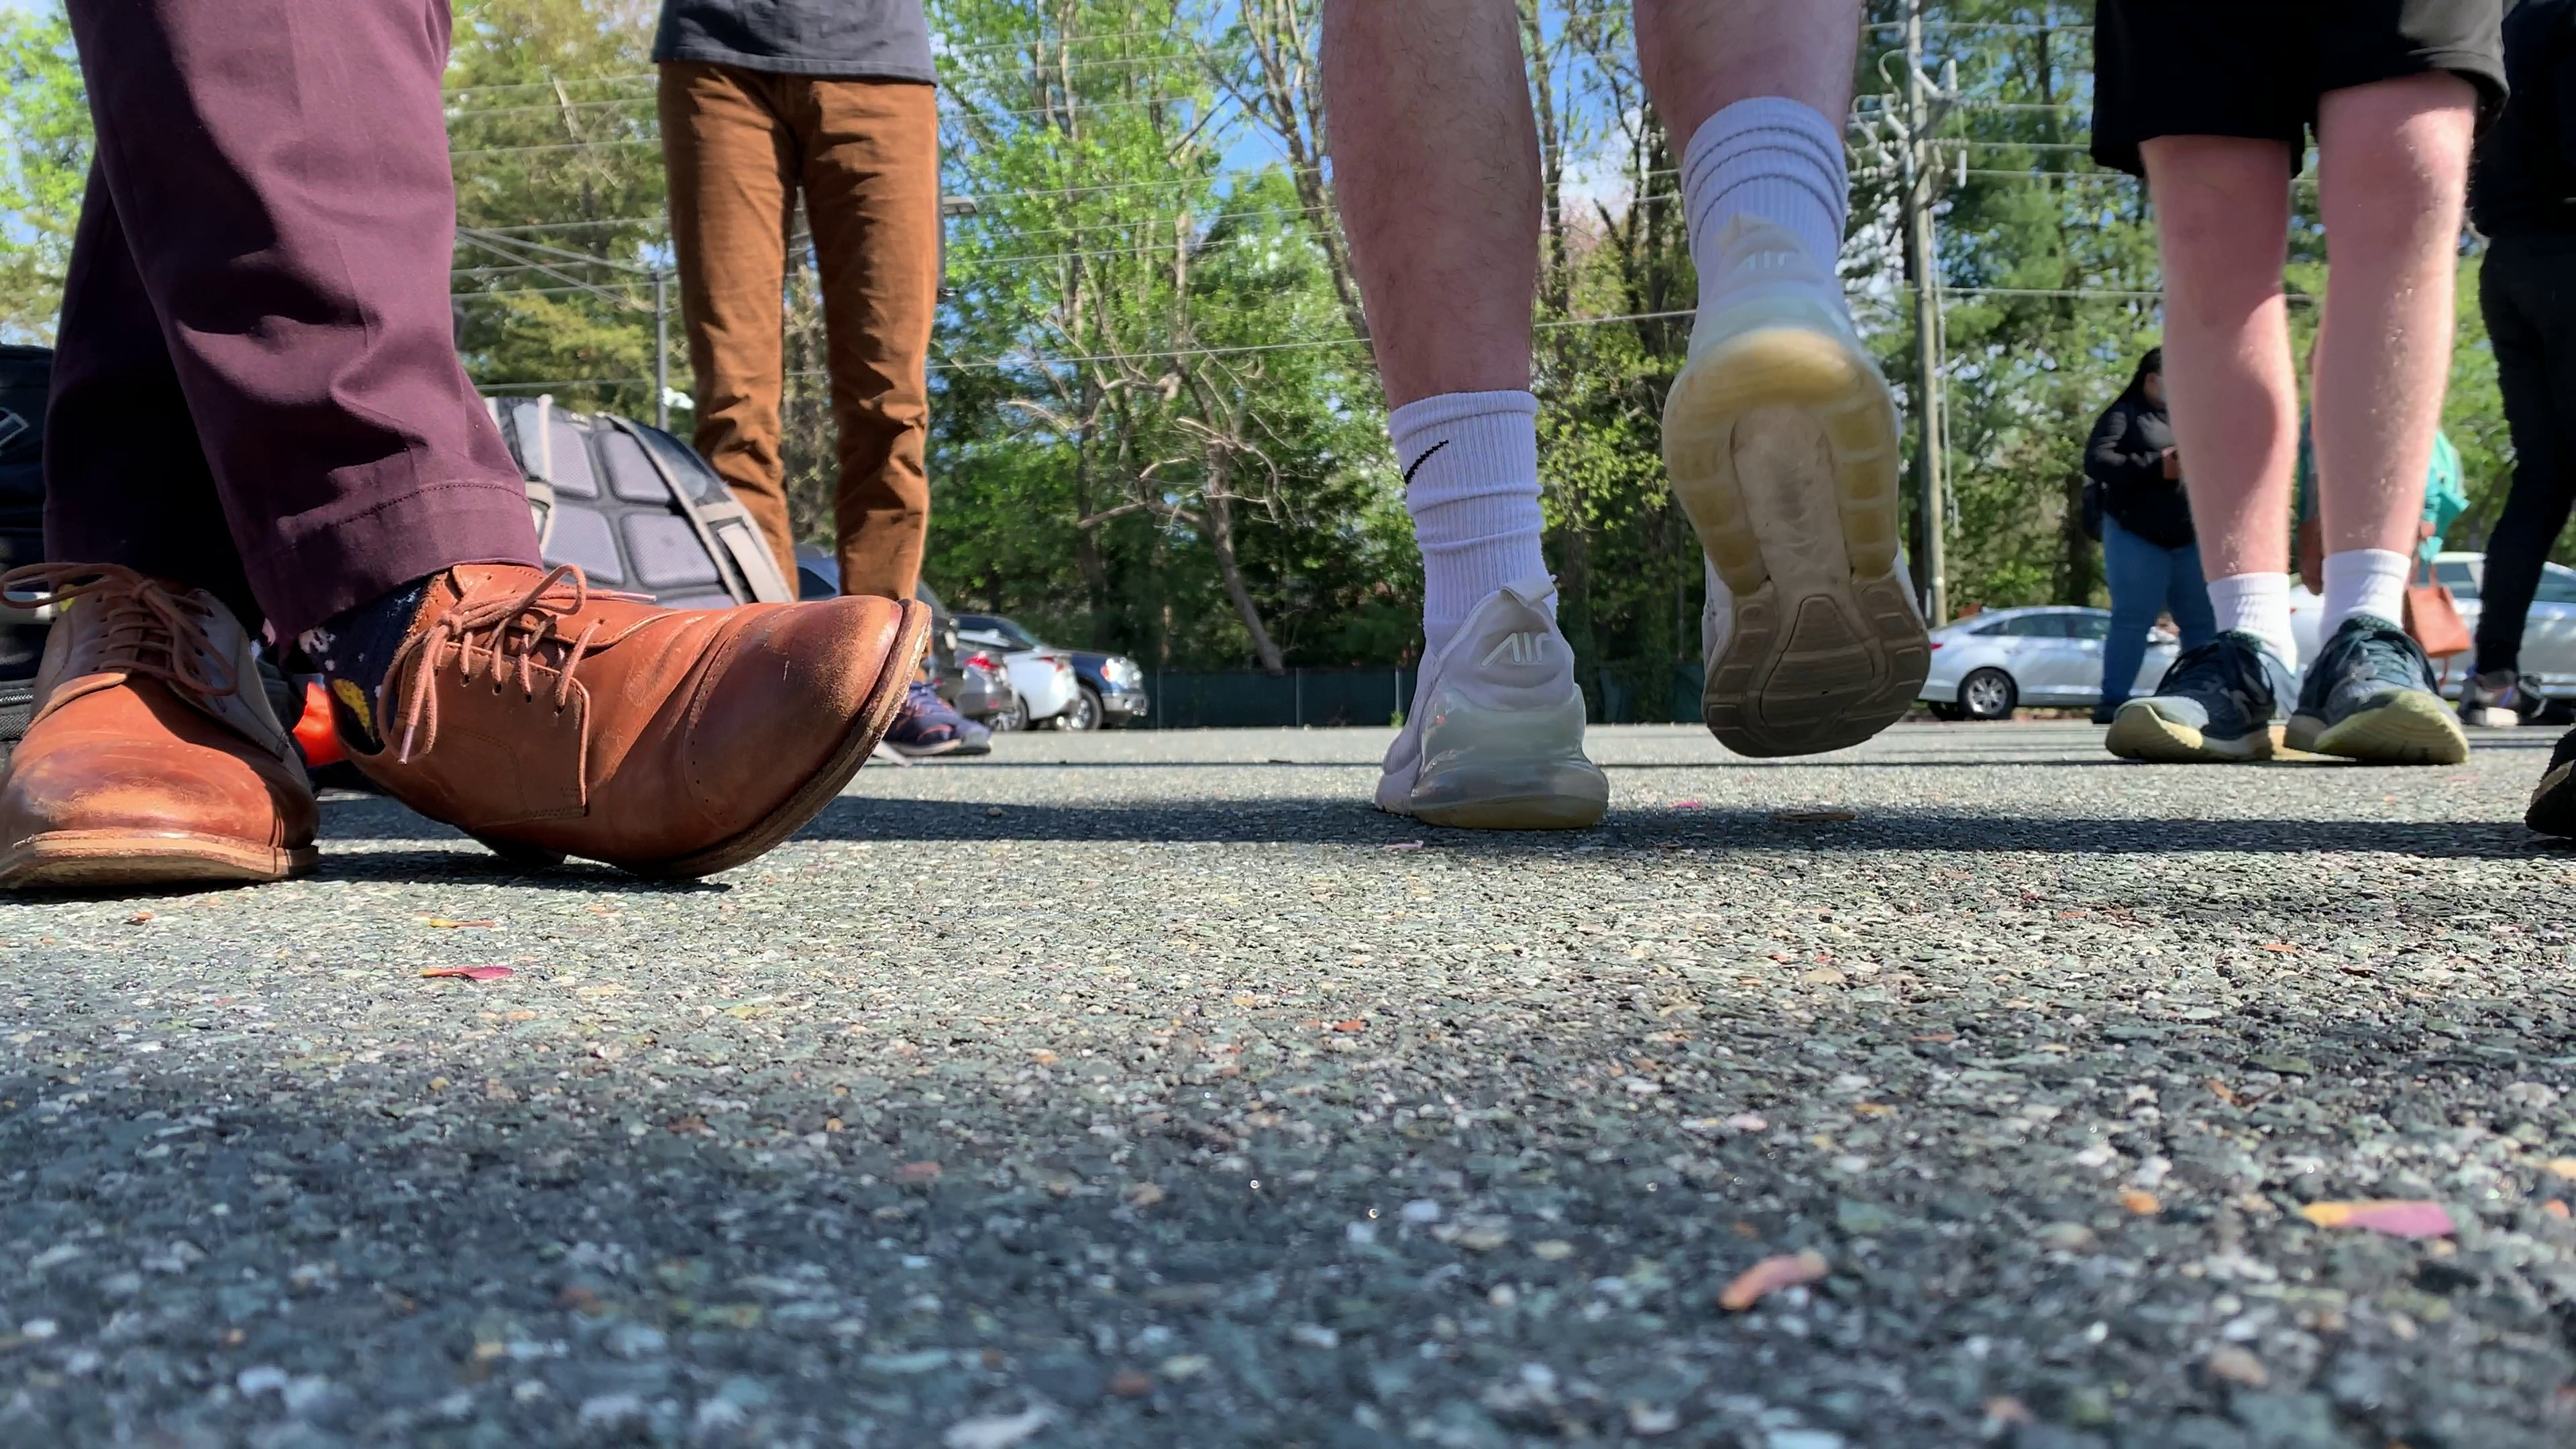shoe: (334, 561, 932, 881), (1660, 228, 1928, 757), (0, 563, 313, 876), (1376, 591, 1608, 832), (2284, 610, 2473, 764), (2107, 630, 2323, 764)
